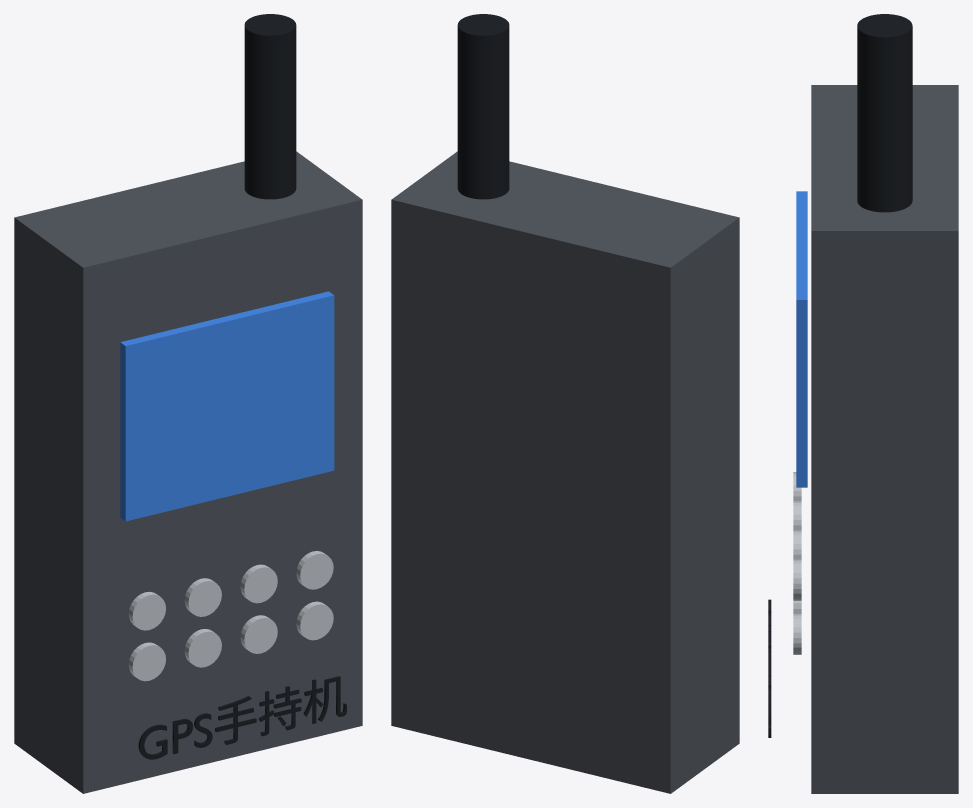
The model's file is asset_gps.glb.
The picture shows the model from 3 angles, left to right: view 1: azimuth 30°, elevation 25°; view 2: azimuth 150°, elevation 25°; view 3: azimuth 270°, elevation 25°; orthographic projection. The views are drawn at different scales.
Parts seen in each view (by area): view 1: handheld_body, screen, antenna, asset_label, key_2, key_3, key_6, key_7, key_5, key_0, key_1, key_4; view 2: handheld_body, antenna; view 3: handheld_body, antenna, screen, asset_label, key_3, key_7.
Boxes of the visible parts, bbox=[...] form: handheld_body: bbox=[14, 151, 362, 793]; screen: bbox=[120, 291, 334, 521]; antenna: bbox=[244, 14, 296, 199]; asset_label: bbox=[138, 676, 346, 759]; key_2: bbox=[240, 615, 277, 653]; key_3: bbox=[296, 601, 333, 640]; key_6: bbox=[240, 564, 277, 603]; key_7: bbox=[296, 551, 333, 589]; key_5: bbox=[184, 578, 221, 616]; key_0: bbox=[128, 642, 165, 681]; key_1: bbox=[184, 629, 221, 667]; key_4: bbox=[128, 591, 165, 630]; handheld_body: bbox=[391, 151, 739, 793]; antenna: bbox=[457, 14, 509, 199]; handheld_body: bbox=[811, 85, 958, 793]; antenna: bbox=[857, 14, 912, 212]; screen: bbox=[796, 191, 807, 487]; asset_label: bbox=[768, 599, 771, 737]; key_3: bbox=[793, 613, 801, 654]; key_7: bbox=[793, 559, 801, 600].
Size of the model in its own units: 0.75 by 1.77 by 0.413.
